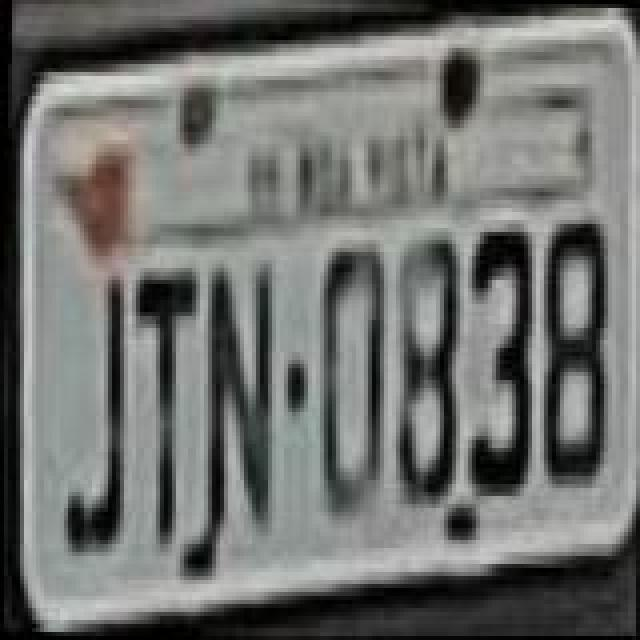3: (462, 220, 538, 508)
8: (384, 226, 464, 514), (536, 214, 616, 498)
J: (58, 272, 130, 560)
N: (198, 264, 278, 544)
O: (314, 242, 390, 526)
T: (120, 264, 196, 556)
